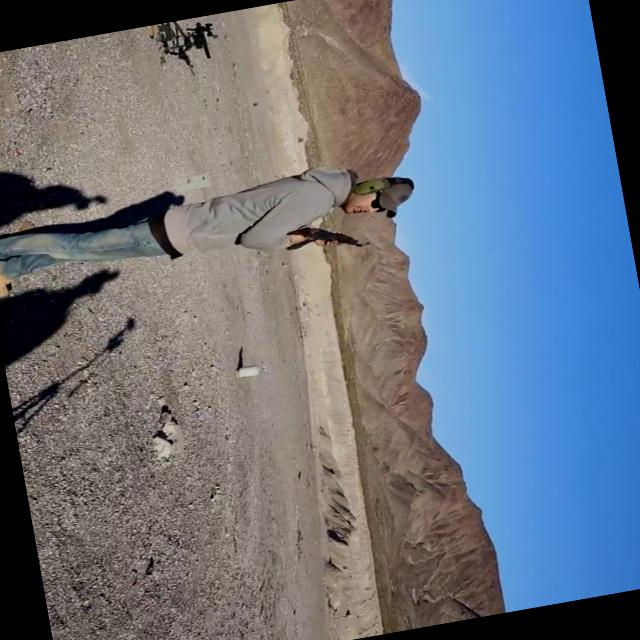long weapon: (250, 207, 370, 278)
